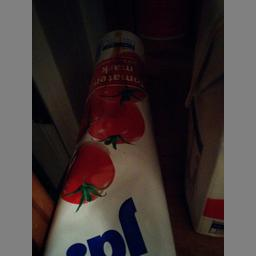tomato_sauce: (42, 46, 176, 255)
